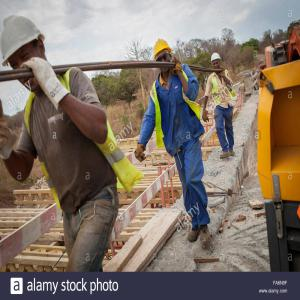white: (3, 16, 51, 92), (211, 52, 222, 72)
yellow: (153, 38, 175, 74)
